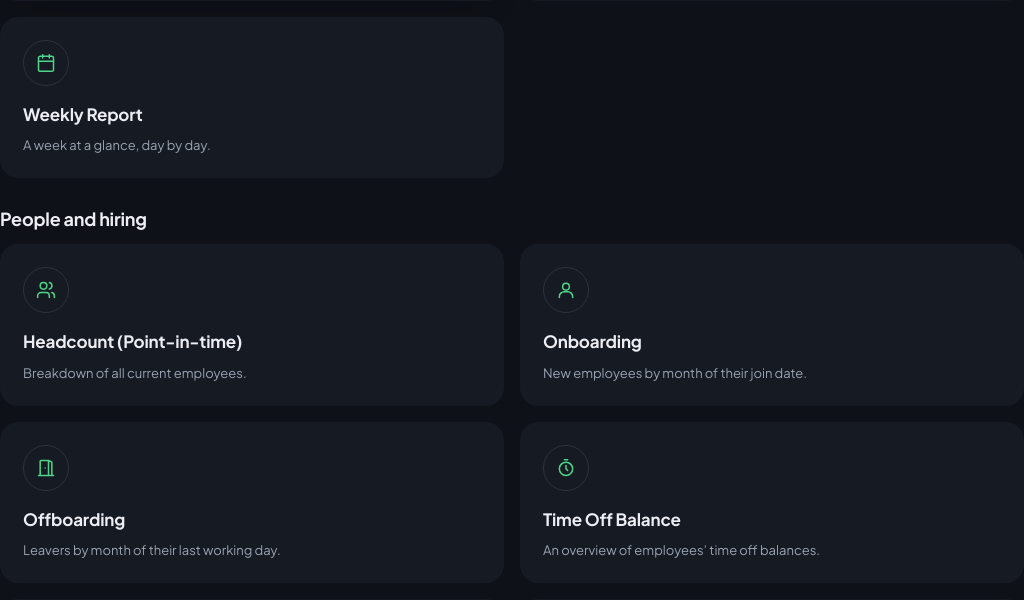
Scenario: Reports › shows New Joining in the Onboarding box, under the joiners by month
(page scrolled)
Click the button with class "k-tile" that starts with "Onboarding".
click(566, 290)  # box [520,244,1023,406]
(page scrolled)
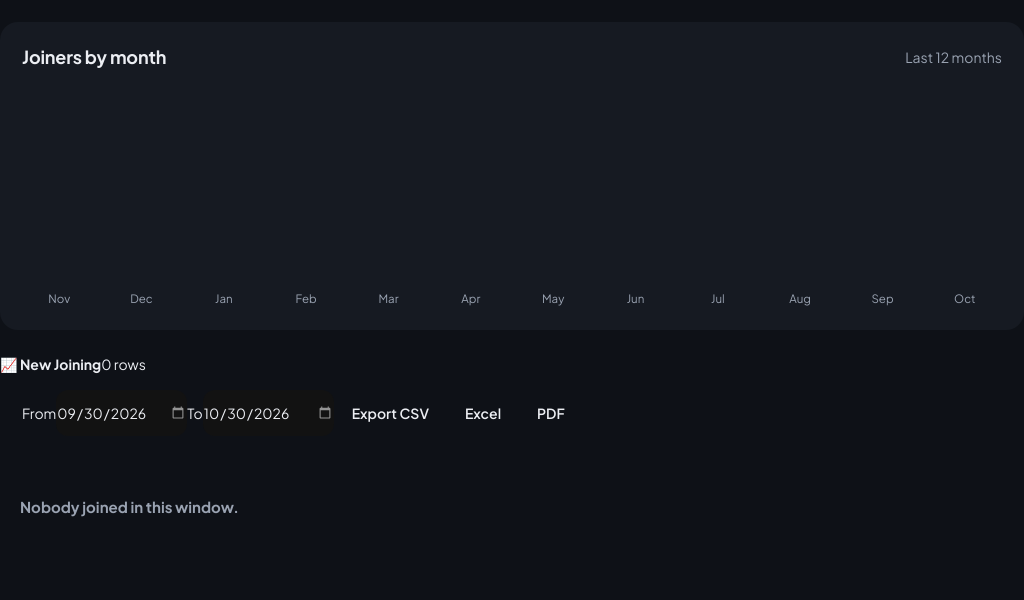
Expected: the text "Joiners by month" is shown, [22,44,166,70]
Expected: the text "New Joining" is shown, [20,355,101,373]
Expected: the text "New employees" is gone
